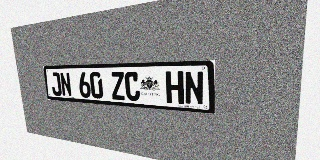0: (89, 72, 103, 99)
6: (78, 72, 91, 98)
C: (124, 72, 140, 101)
H: (165, 71, 184, 104)
J: (50, 72, 62, 96)
N: (184, 71, 204, 106), (59, 72, 72, 97)
Z: (110, 72, 126, 100)
